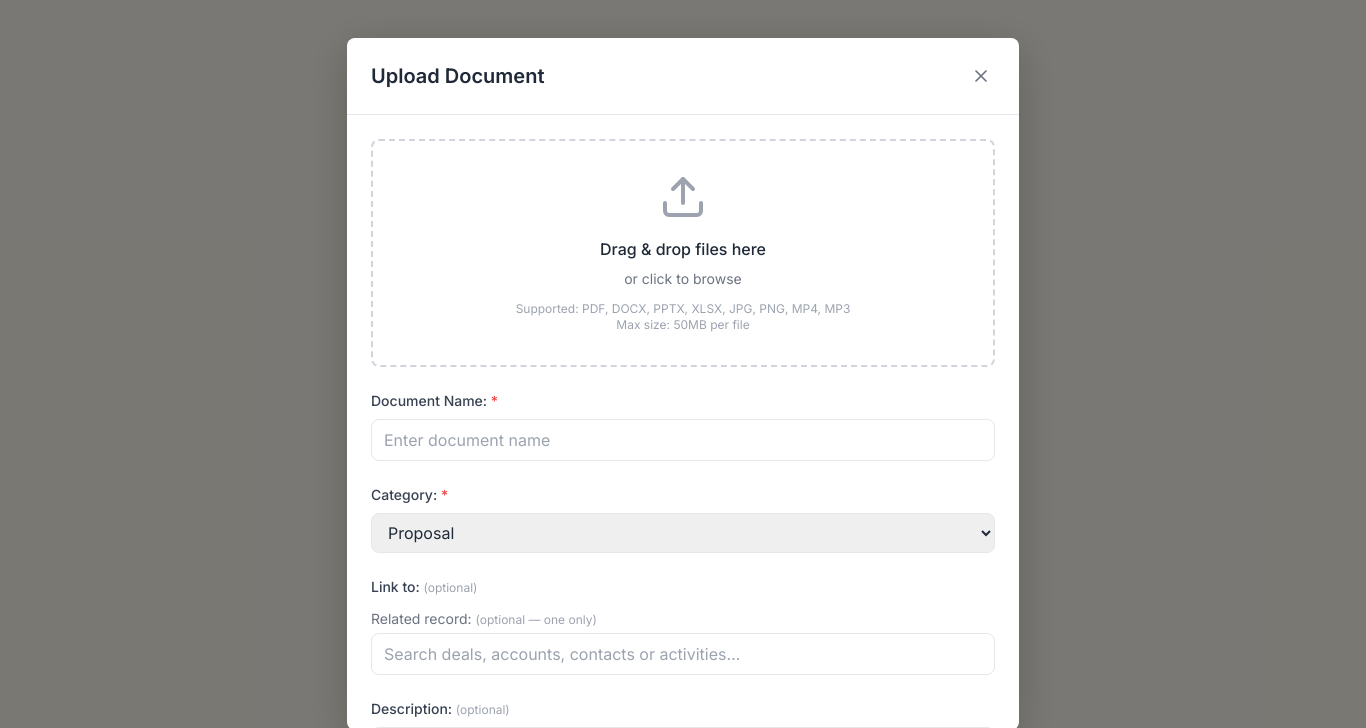
Test: UploadDocumentModal — the related-record picker › lists REAL records from all four types, each labelled with its type
The image size is (1366, 728).
Click the field with placeholder "Search deals, accounts, contacts or activities…": click(683, 654) [371,633,995,675]
(page scrolled)
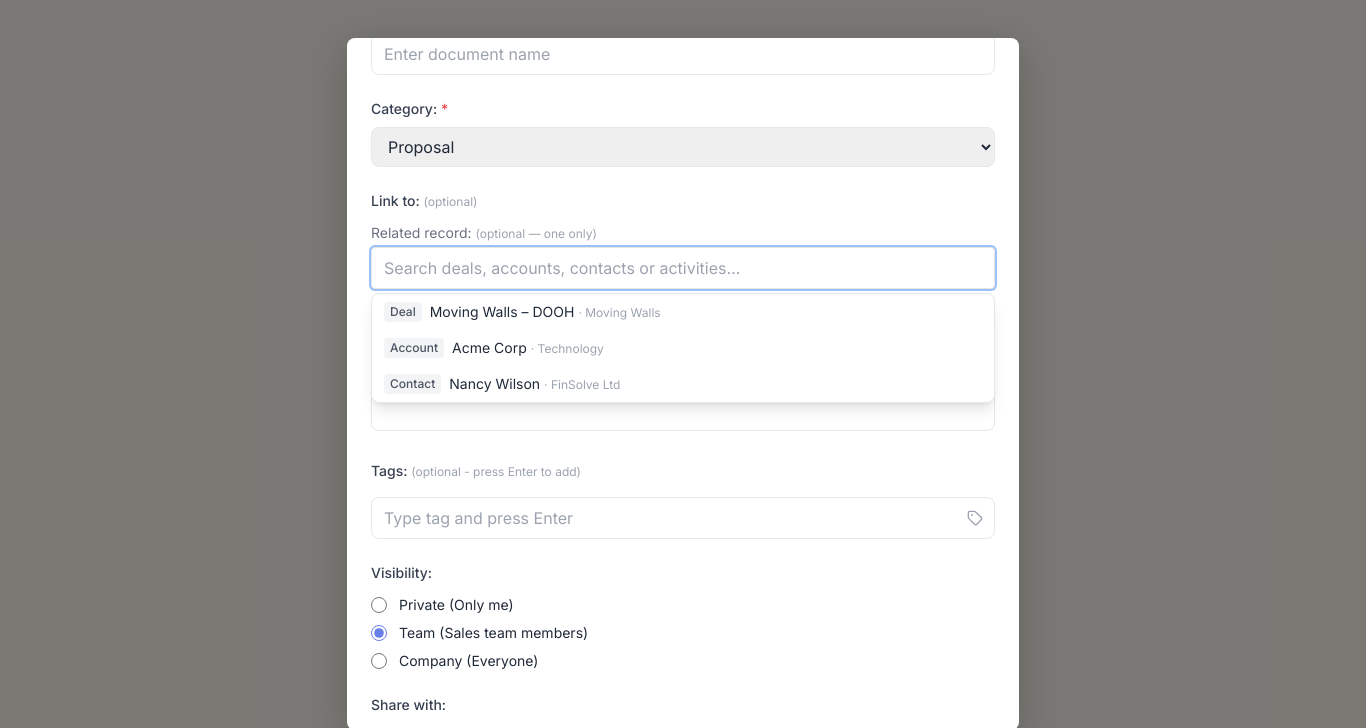
expect the button "Deal Moving Walls – DOOH· Moving Walls" is shown: met, box [372,294,994,330]
expect the button "Account Acme Corp· Technology" is shown: met, box [372,330,994,366]
expect the button "Contact Nancy Wilson· FinSolve Ltd" is shown: met, box [372,366,994,402]
